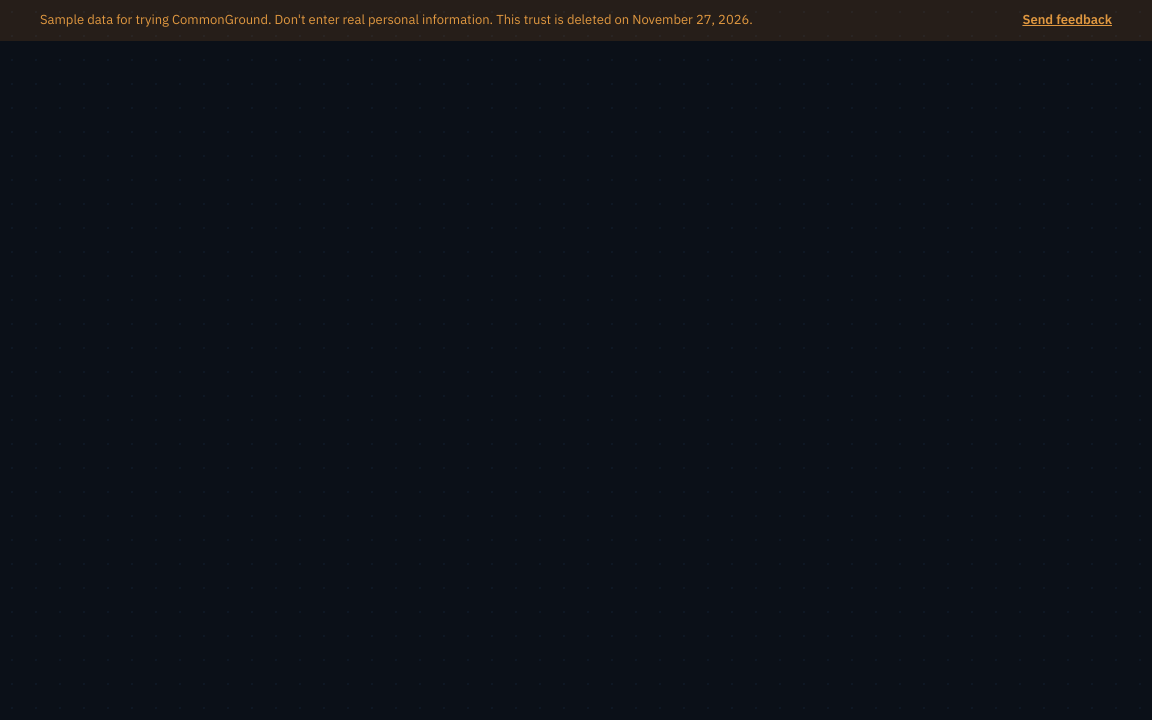
DemoBanner › sends the feedback with the page and permission to reply
Later steps or results of the test are not shown.
Click the button "Send feedback" at coordinates (1067, 20), box [1022,10,1112,31]
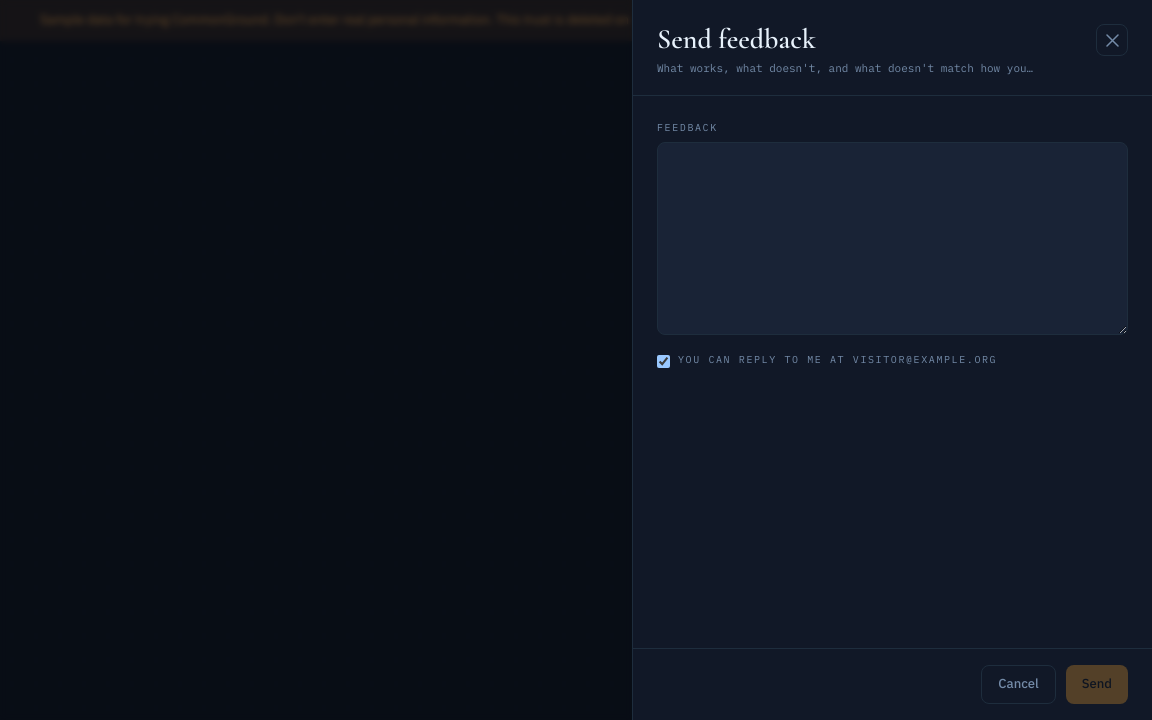
Type "  The price looks wrong  " into the text box labelled "Feedback" at coordinates (892, 239), box [657,142,1128,335]
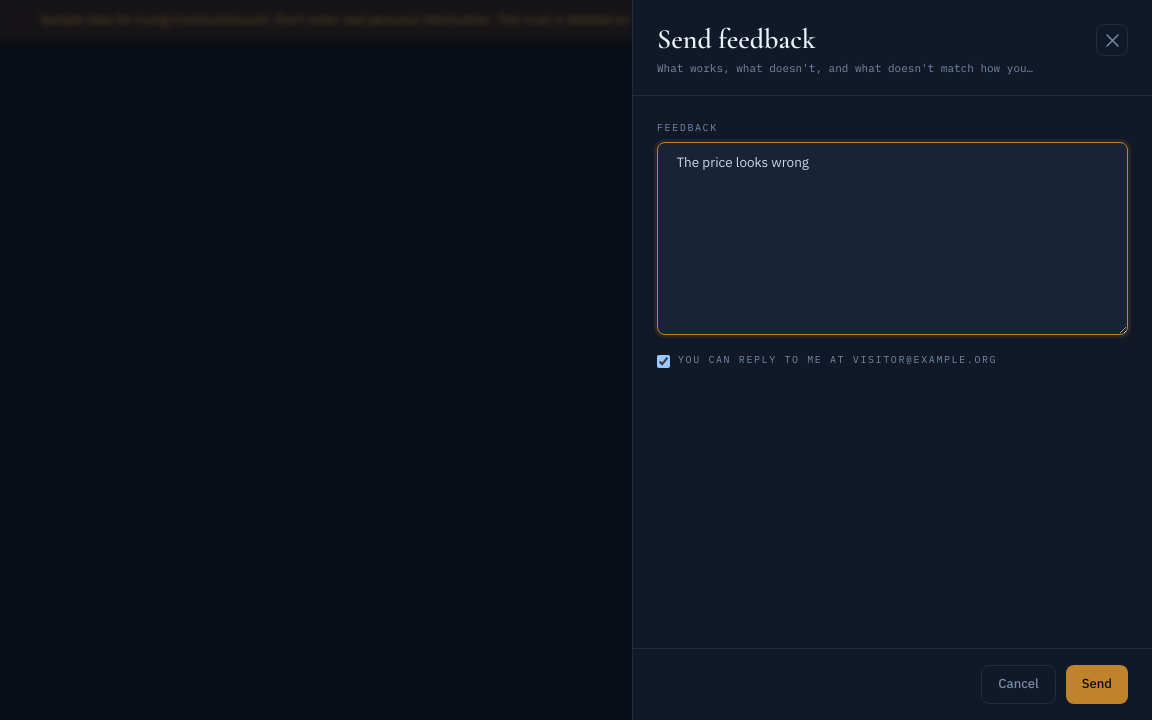
Now the checkbox labelled "You can reply to me at visitor@example.org" is checked, box [657,355,670,368]
